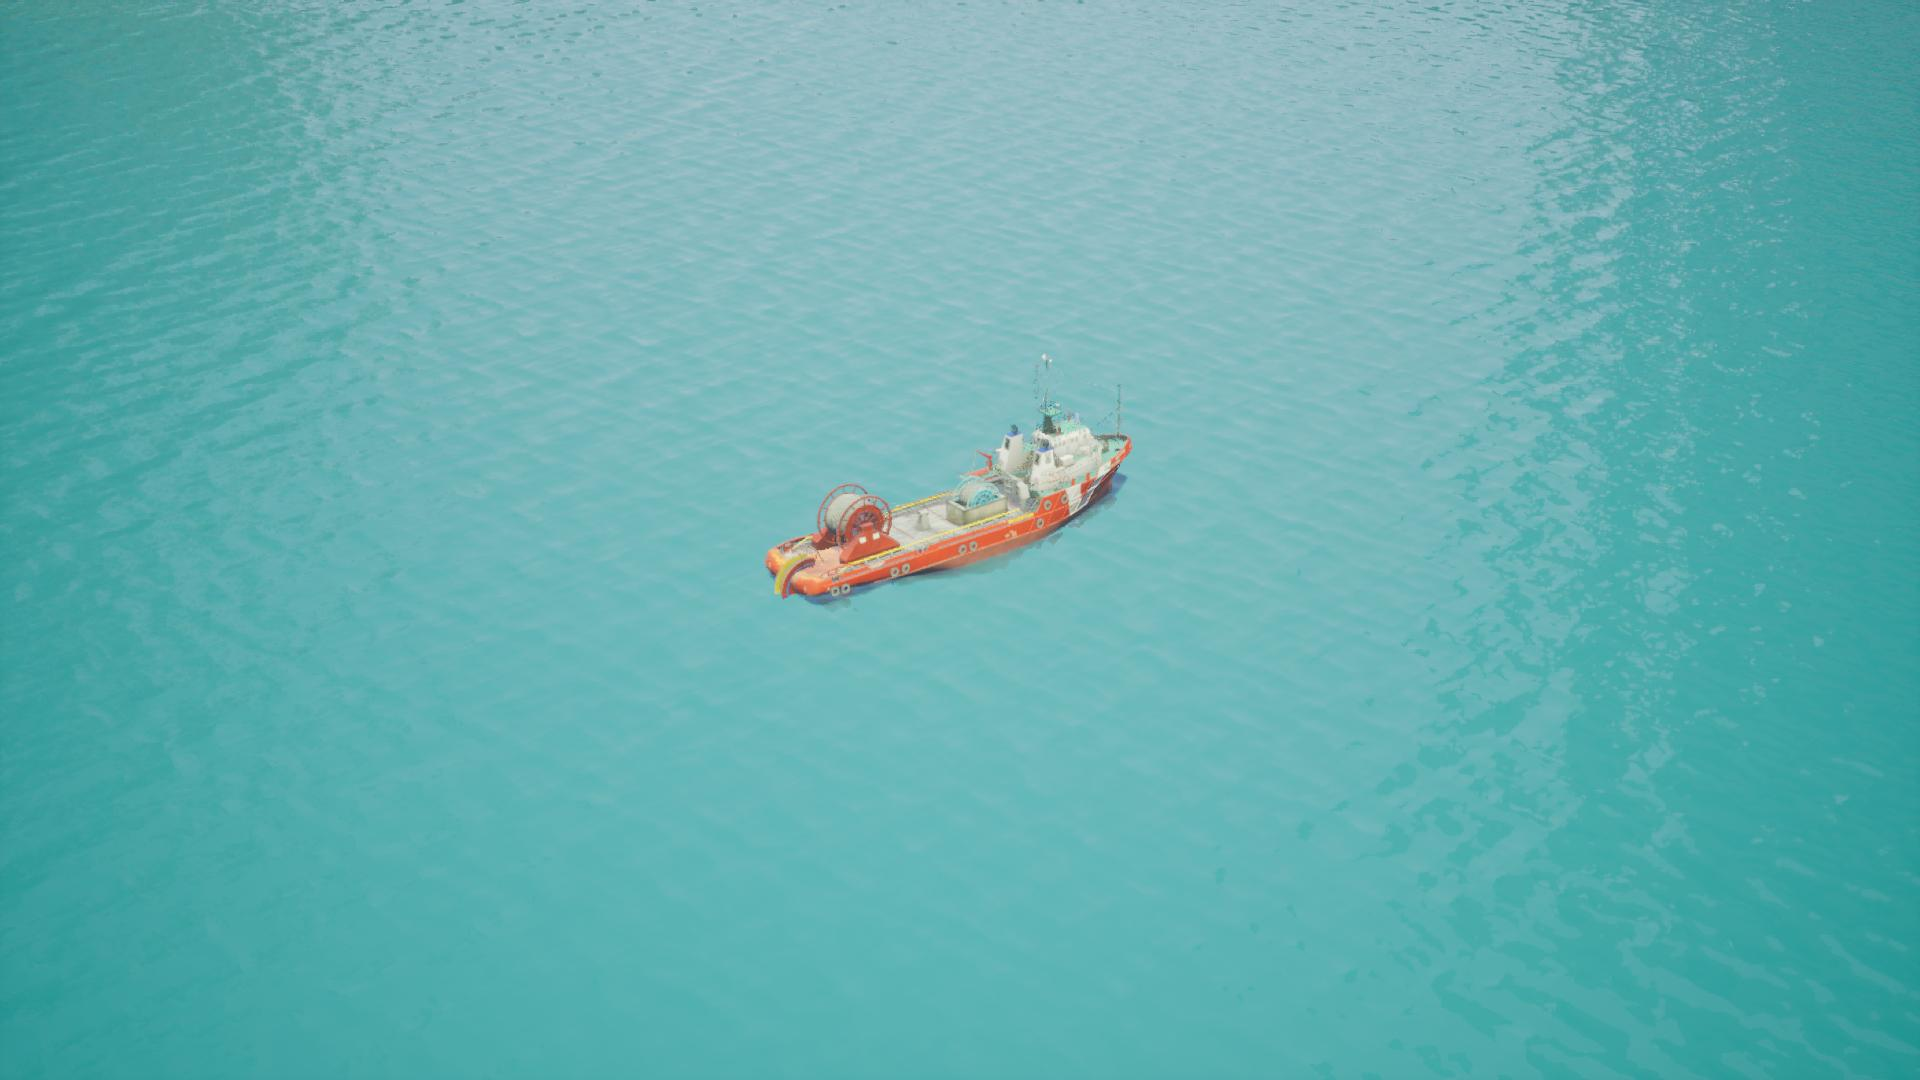Tug Boat: (702, 355, 1226, 659)
